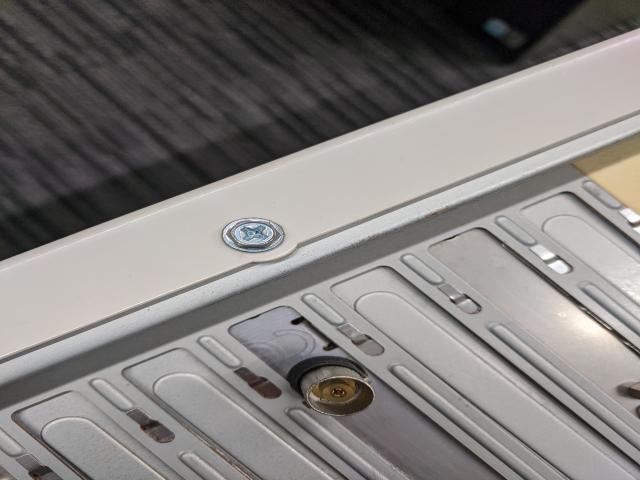CRS: (227, 220, 281, 249)
